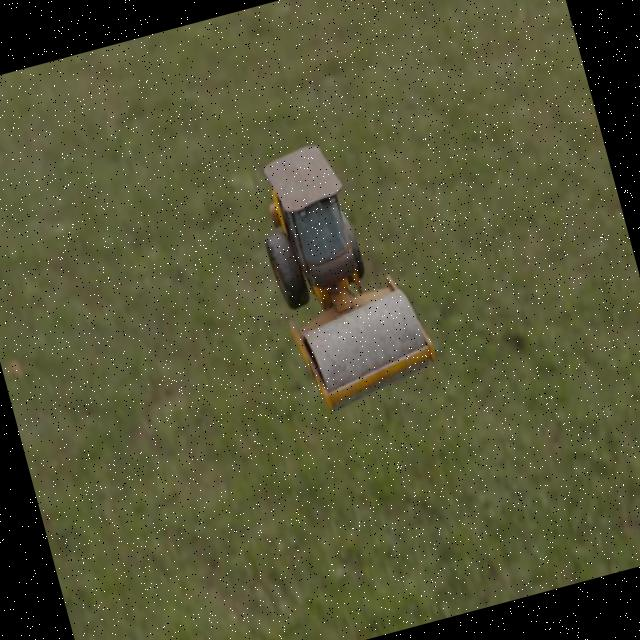Roller: (242, 125, 442, 418)
